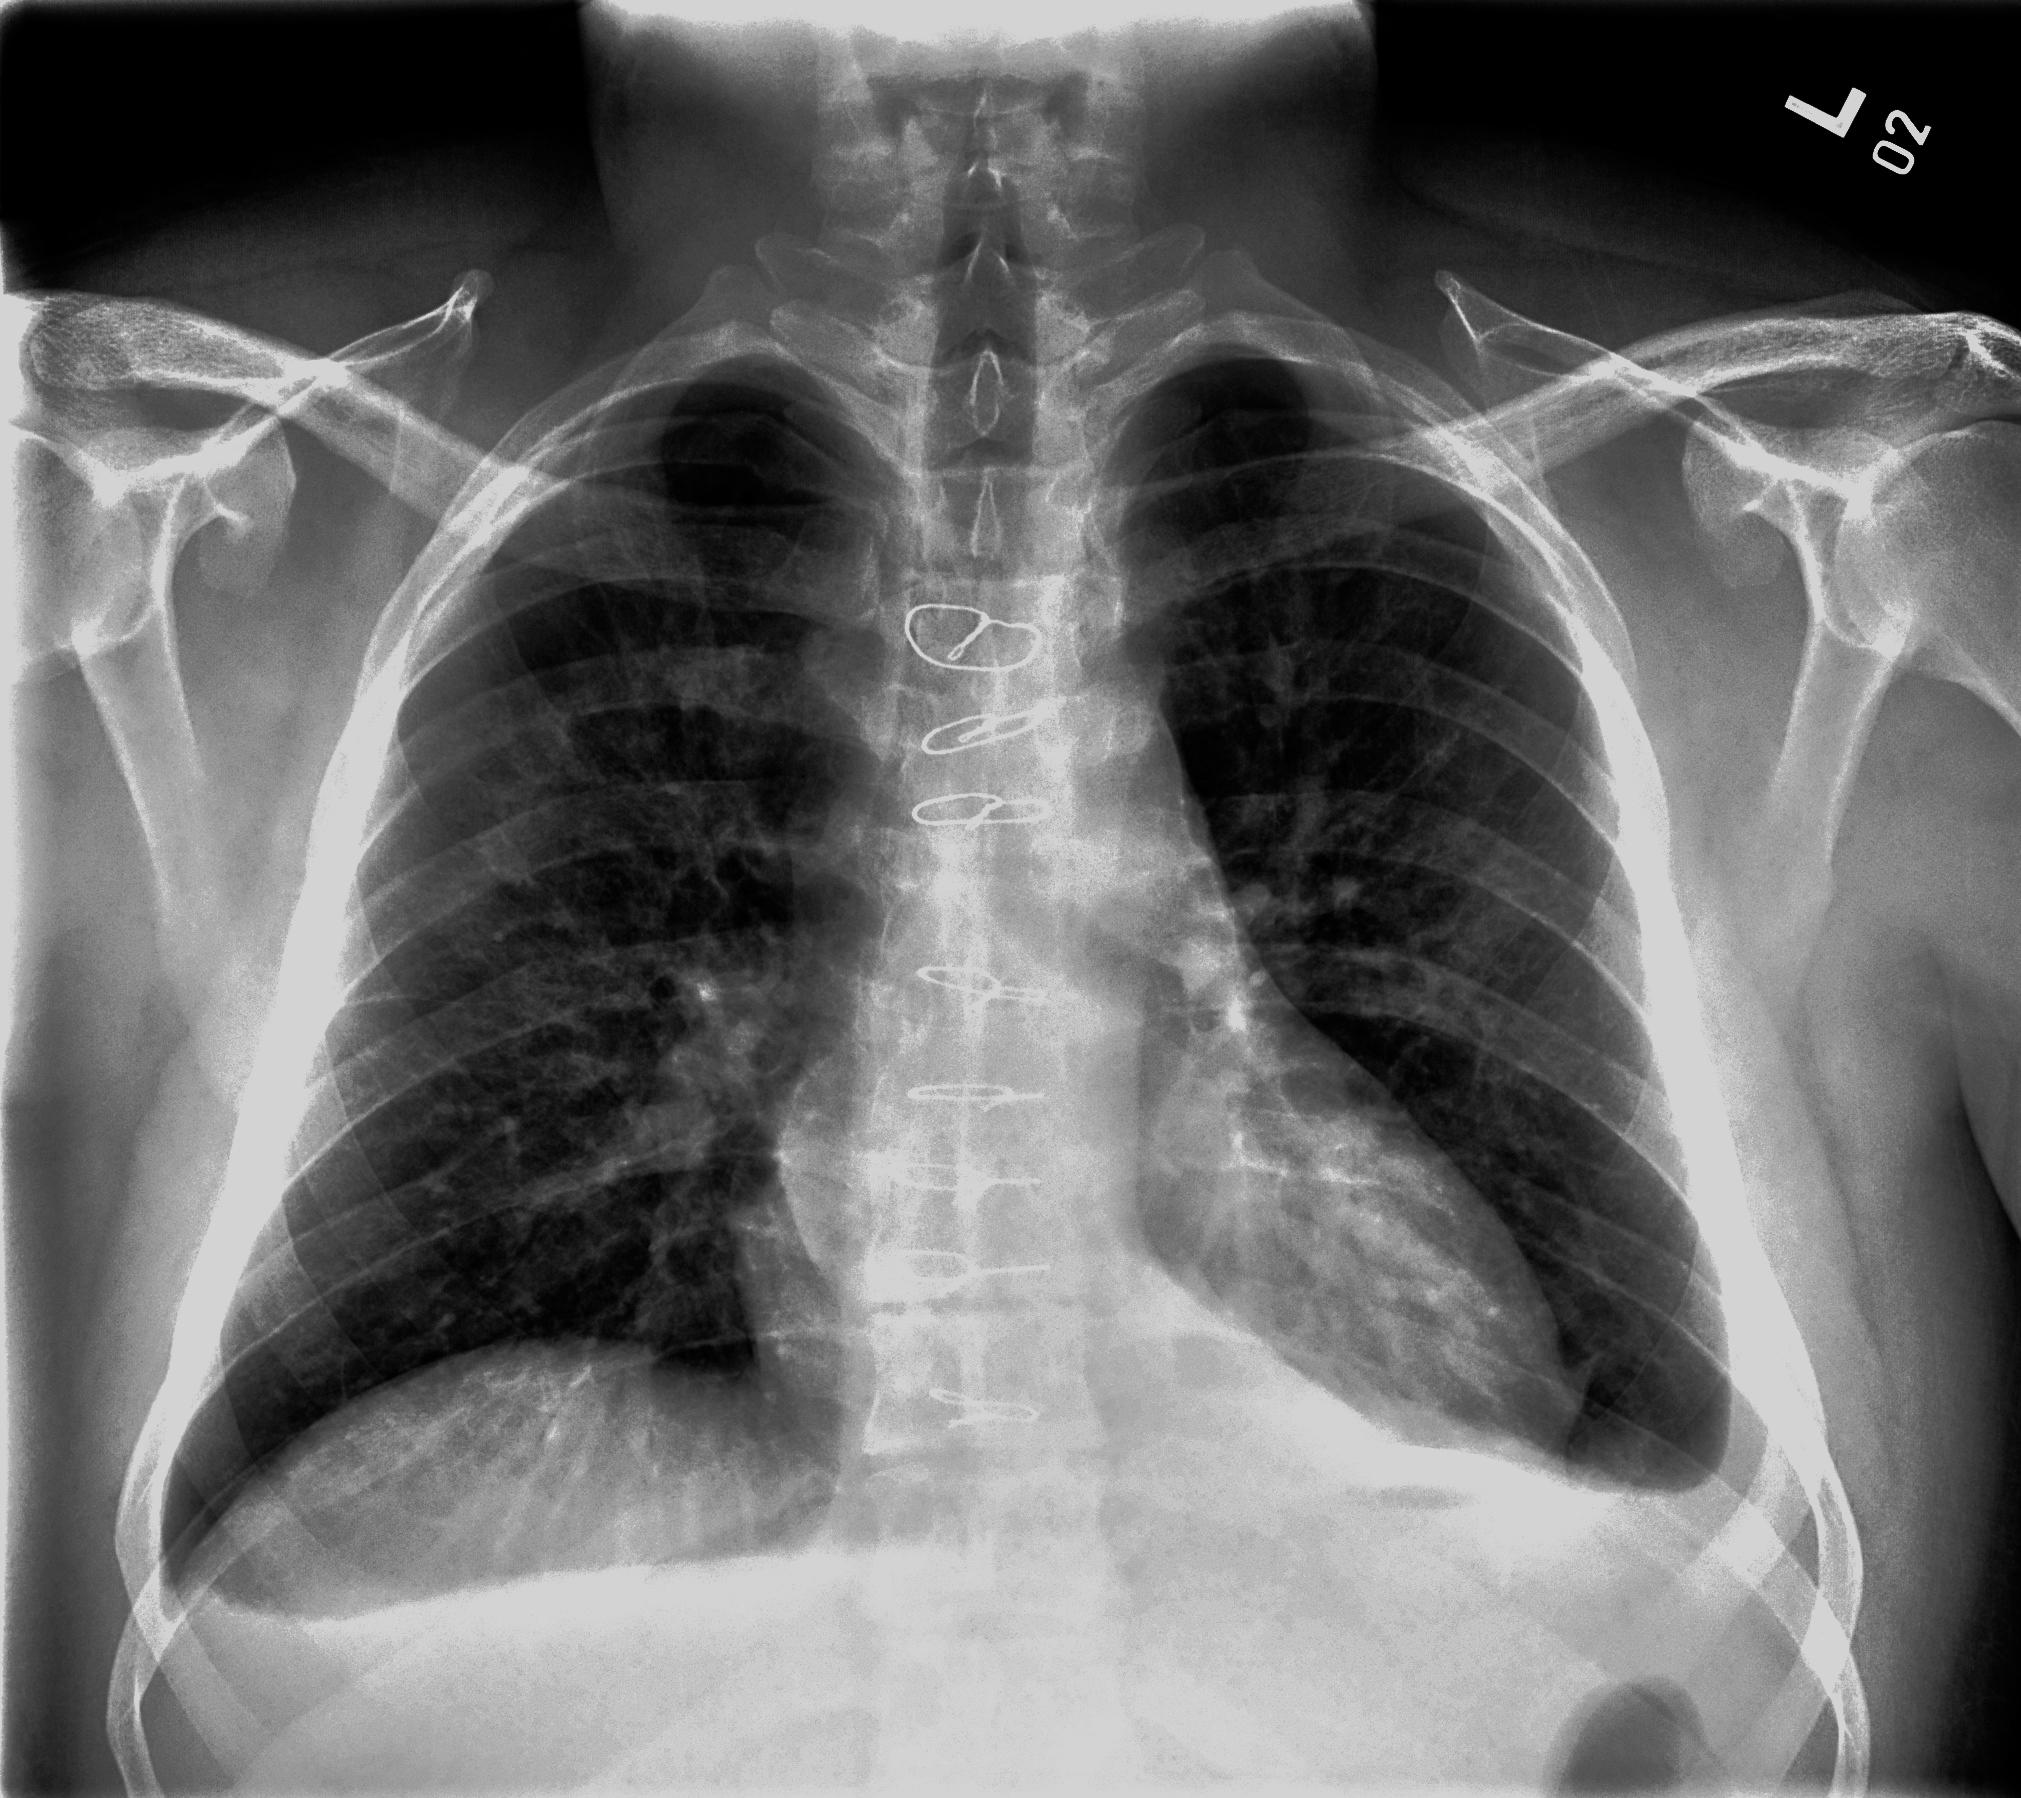Pleural Effusion: (1292, 1447, 1872, 1696), (76, 1574, 749, 1762)
